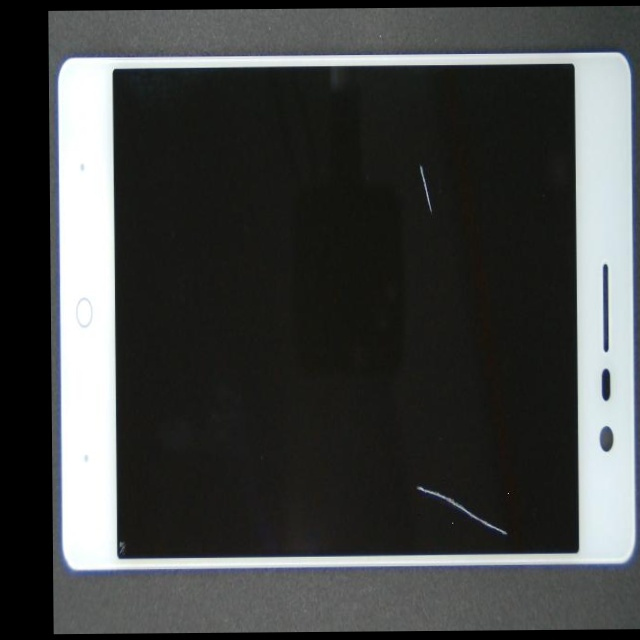scratch: (217, 239, 612, 633), (229, 85, 591, 273)
